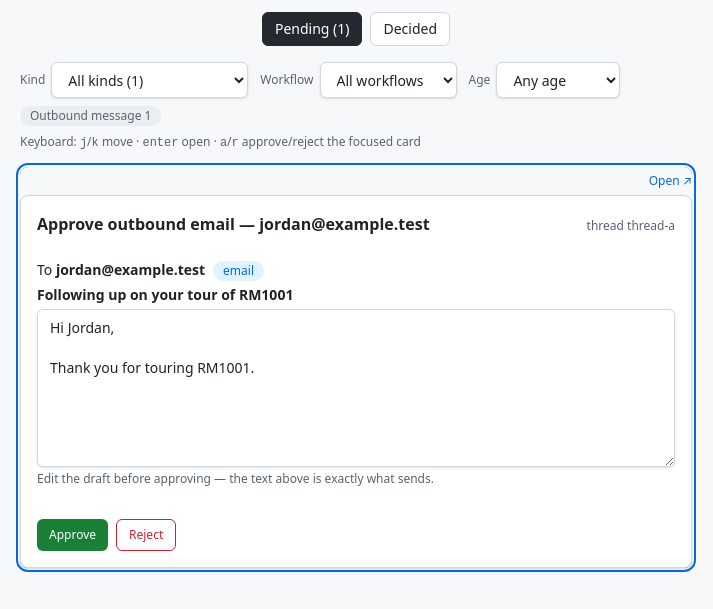
Editable draft (react-hook-form, BOP-028) › surfaces an unsaved-edits indicator once the body is dirty
The width and height of the screenshot is (713, 609).
Expected: the text "Unsaved edits" is not shown
Replace the text in the text box named "Draft body" with "A meaningfully edited draft." at (356, 388), box 37,309 -> 675,467
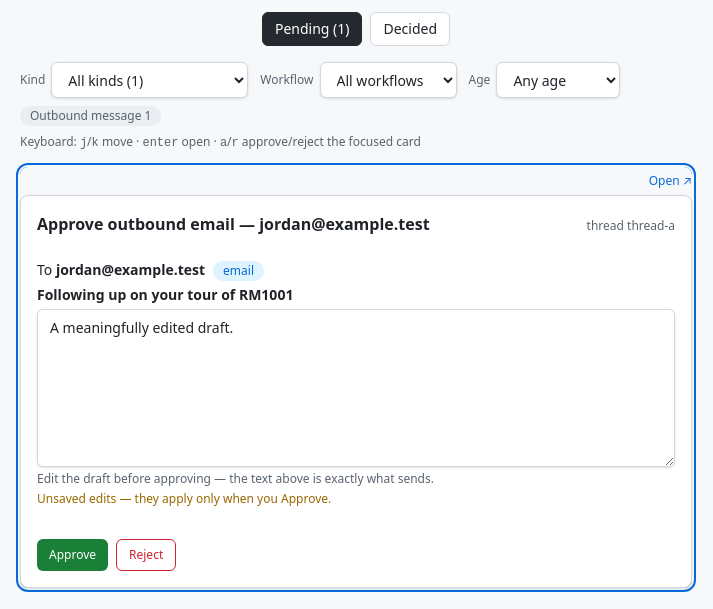
Expected: the text "Unsaved edits — they apply only when you Approve." is shown, 37,490 -> 331,507
